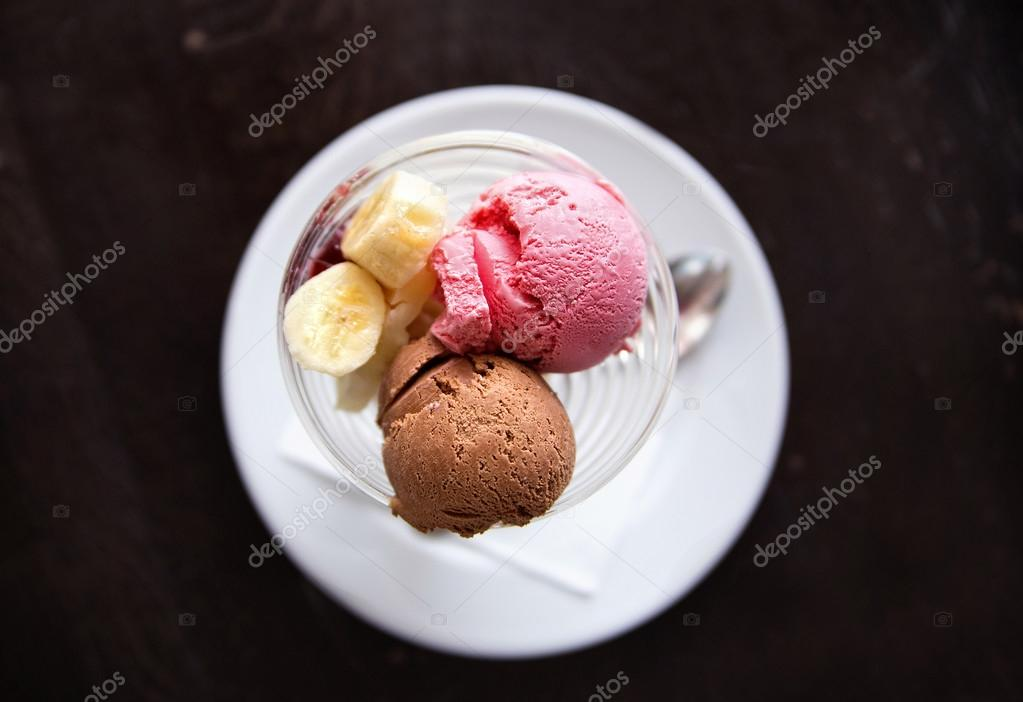ice-cream: (435, 172, 647, 374), (382, 340, 575, 534)
